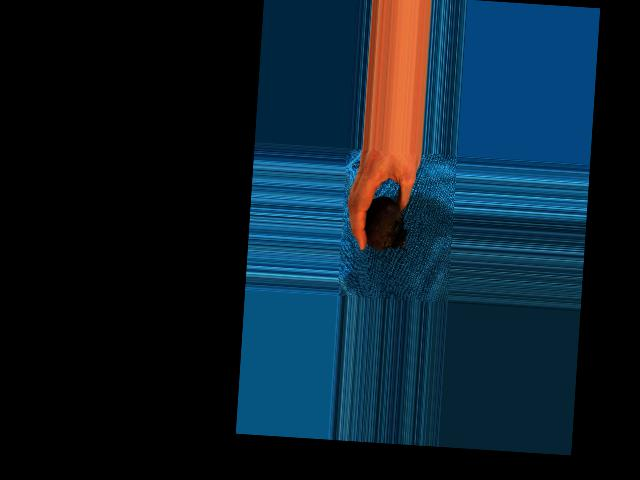beet: (364, 196, 410, 252)
